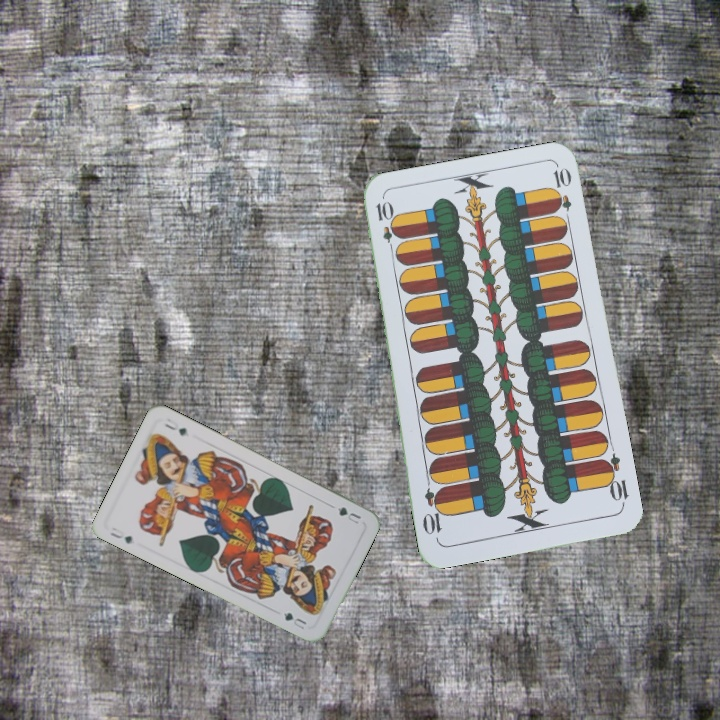E10: (598, 450, 631, 509), (372, 197, 399, 256)
GU: (333, 503, 364, 526), (106, 528, 135, 546)
